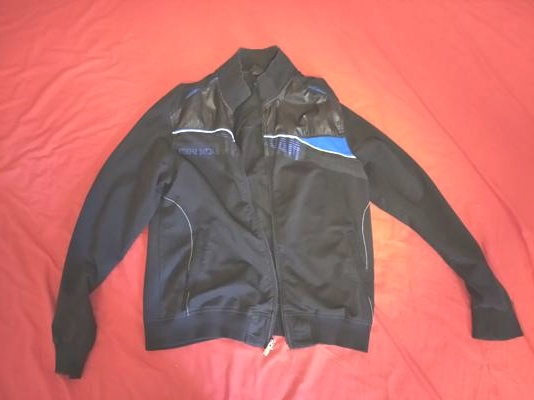Blazer: (40, 48, 523, 382)
